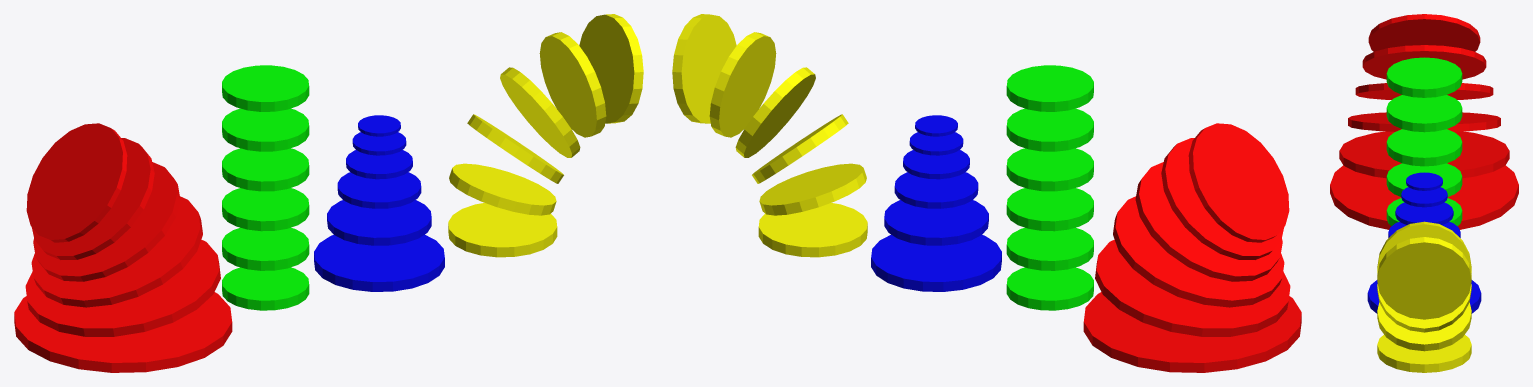
File: Transform_Test.dae
3 views of the same model, side by side, from view 1: azimuth 30°, elevation 25°; view 2: azimuth 150°, elevation 25°; view 3: azimuth 270°, elevation 25° (orthographic). The views are drawn at different scales.
Parts seen in each view (by area): view 1: pCylinder1, pCylinder6, pCylinder2, pCylinder3, pCylinder13, pCylinder4, pCylinder24, pCylinder23, pCylinder19, pCylinder5, pCylinder14, pCylinder20 (+12 smaller); view 2: pCylinder1, pCylinder6, pCylinder2, pCylinder3, pCylinder13, pCylinder4, pCylinder24, pCylinder23, pCylinder19, pCylinder5, pCylinder14, pCylinder20 (+12 smaller); view 3: pCylinder24, pCylinder1, pCylinder2, pCylinder6, pCylinder12, pCylinder10, pCylinder11, pCylinder5, pCylinder19, pCylinder20, pCylinder3, pCylinder9 (+9 smaller).
Boxes of the visible parts, <box> form: pCylinder1: <box>14,292,232,372</box>; pCylinder6: <box>26,123,127,242</box>; pCylinder2: <box>25,239,220,336</box>; pCylinder3: <box>31,196,202,307</box>; pCylinder13: <box>314,234,444,291</box>; pCylinder4: <box>33,162,180,281</box>; pCylinder24: <box>579,14,643,123</box>; pCylinder23: <box>539,32,606,137</box>; pCylinder19: <box>448,203,557,257</box>; pCylinder5: <box>31,138,154,259</box>; pCylinder14: <box>327,200,431,245</box>; pCylinder20: <box>449,163,556,215</box>; pCylinder1: <box>1083,292,1301,372</box>; pCylinder6: <box>1188,123,1289,242</box>; pCylinder2: <box>1095,239,1290,336</box>; pCylinder3: <box>1113,196,1284,307</box>; pCylinder13: <box>871,234,1001,291</box>; pCylinder4: <box>1135,162,1282,281</box>; pCylinder24: <box>672,14,736,123</box>; pCylinder23: <box>709,32,776,137</box>; pCylinder19: <box>758,203,867,257</box>; pCylinder5: <box>1161,138,1284,259</box>; pCylinder14: <box>884,200,988,245</box>; pCylinder20: <box>759,163,866,215</box>; pCylinder24: <box>1377,237,1471,319</box>; pCylinder1: <box>1330,165,1518,229</box>; pCylinder2: <box>1339,131,1509,178</box>; pCylinder6: <box>1368,14,1480,51</box>; pCylinder12: <box>1386,57,1462,97</box>; pCylinder10: <box>1386,129,1462,166</box>; pCylinder11: <box>1386,95,1462,132</box>; pCylinder5: <box>1362,45,1486,79</box>; pCylinder19: <box>1377,335,1471,372</box>; pCylinder20: <box>1377,302,1471,351</box>; pCylinder3: <box>1348,112,1500,131</box>; pCylinder9: <box>1386,163,1462,196</box>.
Bounding box in the file's own units: 62.7 × 21 × 20.
